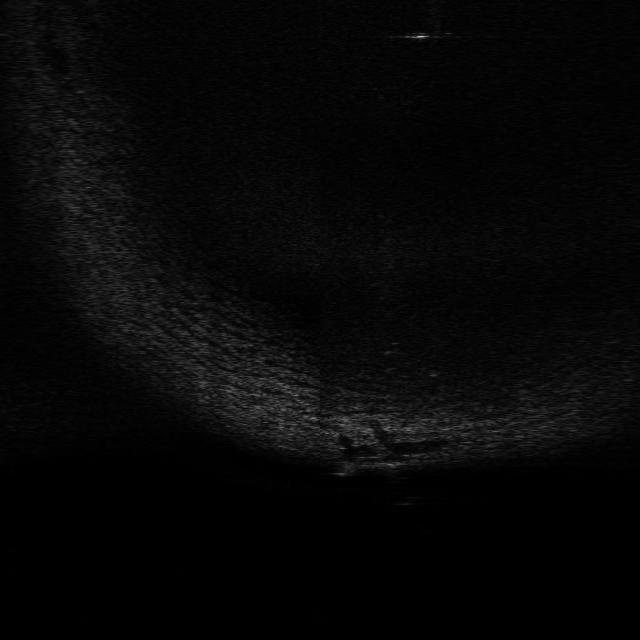plane: (331, 450, 402, 475)
